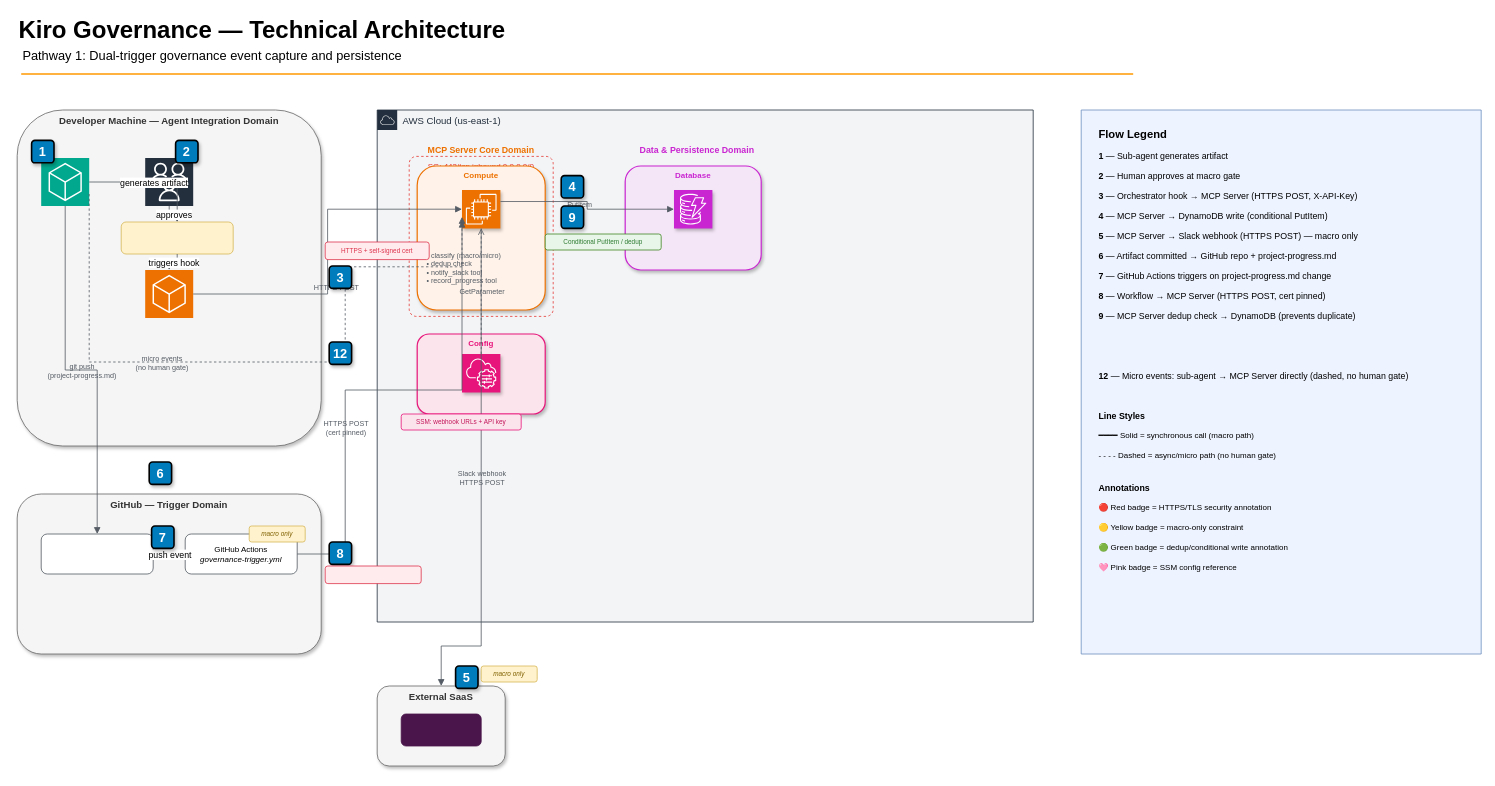
Image size: 1495x786. Some labels were removed from this diagram. The shapes that lost their labels are listed below. From the top down, each one's centre as x and y in pixels, then its label:
(64,181): Kiro Sub-Agent generates artifact
(168,181): Human Reviewer
(481,210): EC2 (t3.micro) MCP Server
(693,210): DynamoDB kiro-governance-tracker
(176,237): Human Approval Gate (macro events only)
(168,293): Kiro Orchestrator + approval hook
(481,374): SSM Parameter Store webhook URLs + API key
(96,553): GitHub Repo project-progress.md
(372,574): HTTPS + cert pinned
(440,729): Slack
